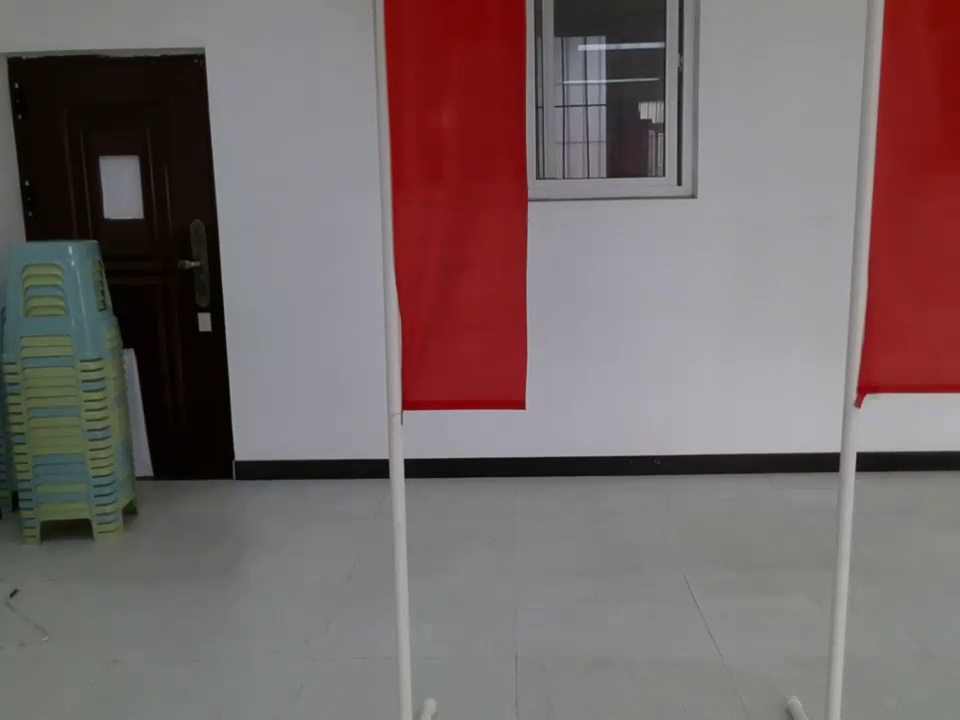qi: (364, 1, 552, 428), (826, 2, 960, 447)
